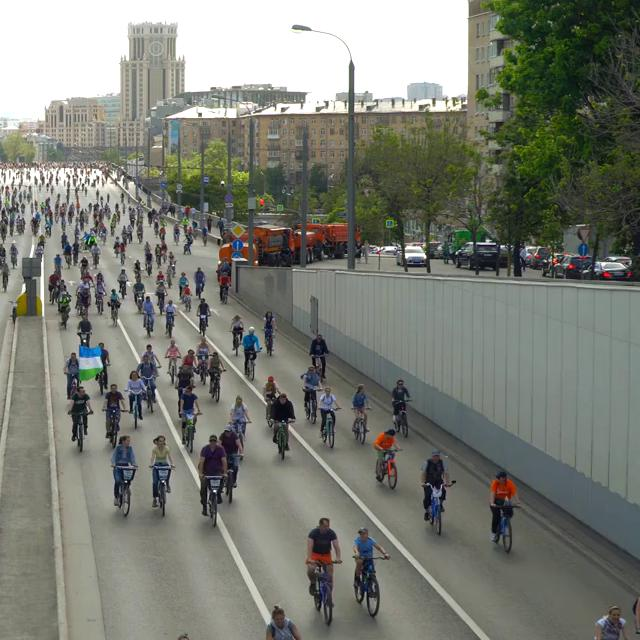bicycle: (351, 553, 390, 617), (306, 559, 342, 625), (420, 480, 456, 535), (489, 501, 521, 553), (148, 464, 175, 517), (200, 475, 227, 527), (111, 464, 137, 517), (374, 447, 402, 489), (268, 417, 295, 460), (67, 409, 92, 452), (178, 411, 202, 453), (223, 454, 243, 503), (318, 407, 341, 449), (101, 405, 123, 447), (391, 398, 412, 437), (125, 390, 146, 429), (350, 406, 371, 444), (302, 386, 322, 423), (140, 375, 157, 413), (207, 367, 224, 402), (242, 347, 260, 380), (231, 420, 251, 447), (95, 362, 110, 394), (165, 354, 180, 385), (262, 327, 278, 356), (63, 370, 79, 398), (310, 353, 326, 380), (265, 394, 278, 426), (194, 355, 208, 384), (230, 327, 243, 355), (107, 300, 121, 326), (142, 311, 155, 337), (58, 303, 71, 329), (163, 311, 176, 337), (196, 312, 210, 336), (76, 329, 92, 348)
